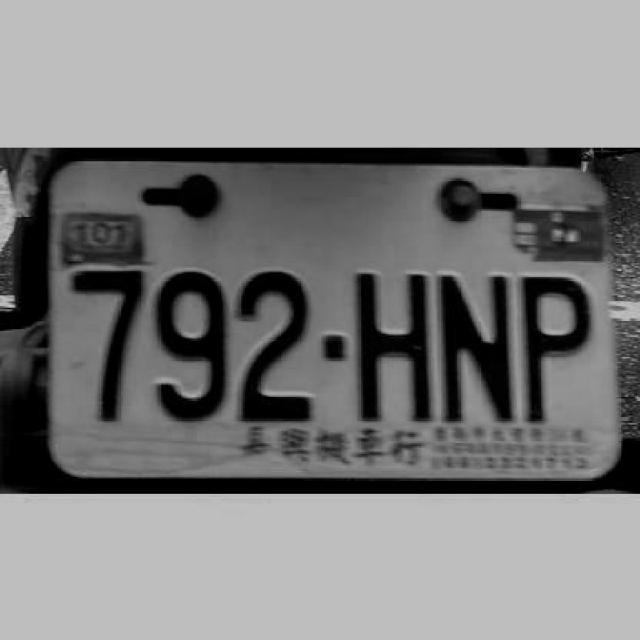-: (322, 332, 343, 358)
2: (234, 264, 317, 424)
7: (66, 265, 146, 426)
9: (148, 268, 229, 423)
H: (351, 260, 434, 426)
N: (435, 268, 517, 428)
P: (515, 269, 594, 422)
